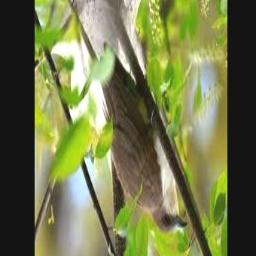Cuckoo: (62, 0, 187, 234)
